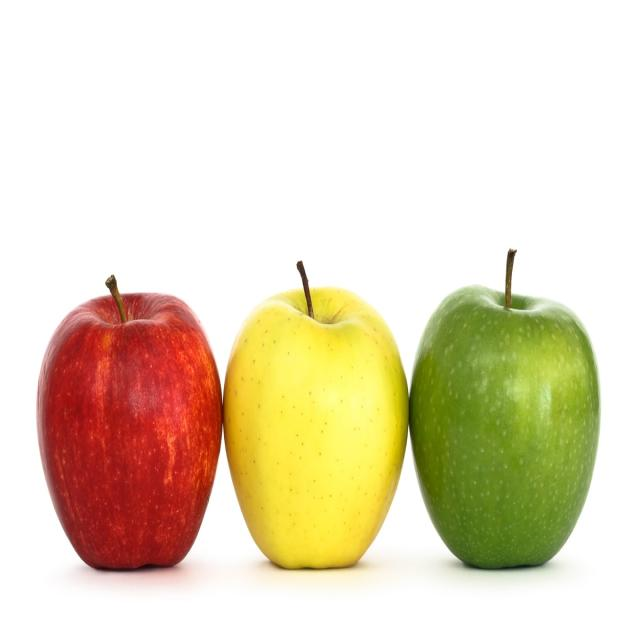Green Apple: (91, 249, 614, 579)
Red Apple: (409, 247, 601, 570), (224, 258, 409, 571), (36, 272, 225, 571)
